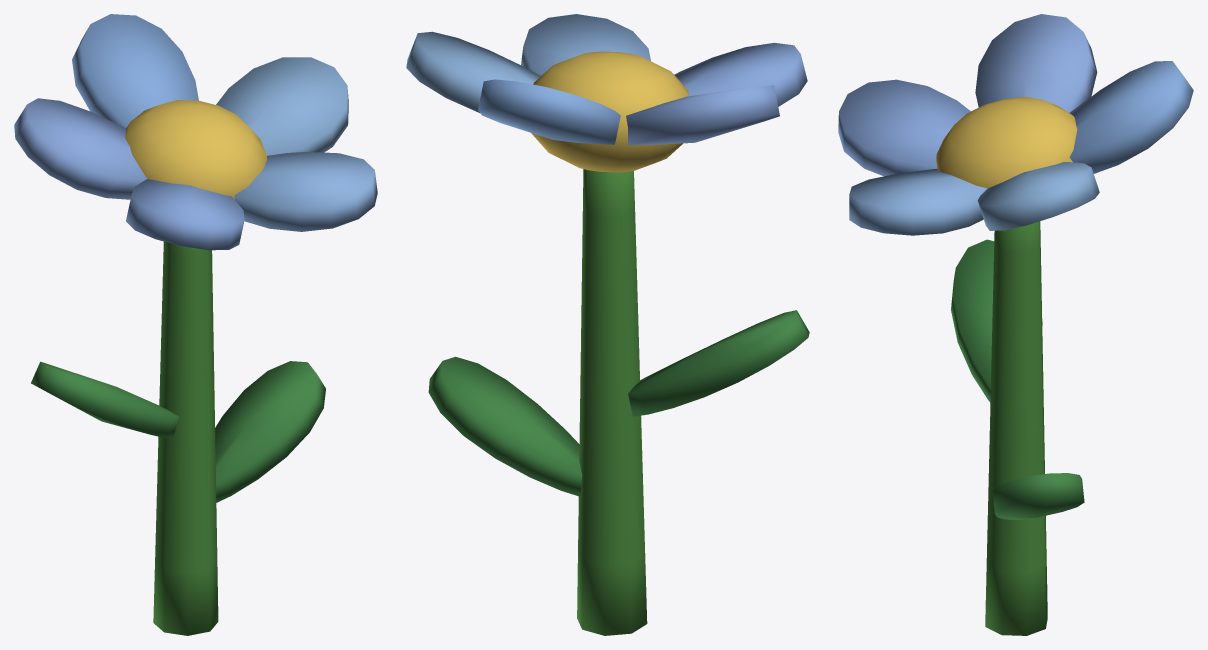
File: W4_FloraRing_8_12.fbx
3 views of the same model, side by side, from view 1: azimuth 30°, elevation 25°; view 2: azimuth 150°, elevation 25°; view 3: azimuth 270°, elevation 25° (orthographic). The views are drawn at different scales.
Visible parts, largest first — view 1: W4_FloraRing_8_12; view 2: W4_FloraRing_8_12; view 3: W4_FloraRing_8_12.
Boxes of the visible parts, <box> form: W4_FloraRing_8_12: <box>14,14,377,635</box>; W4_FloraRing_8_12: <box>406,14,809,635</box>; W4_FloraRing_8_12: <box>838,14,1193,635</box>.
Bounding box in the file's own units: 0.0999 × 0.1608 × 0.092.
